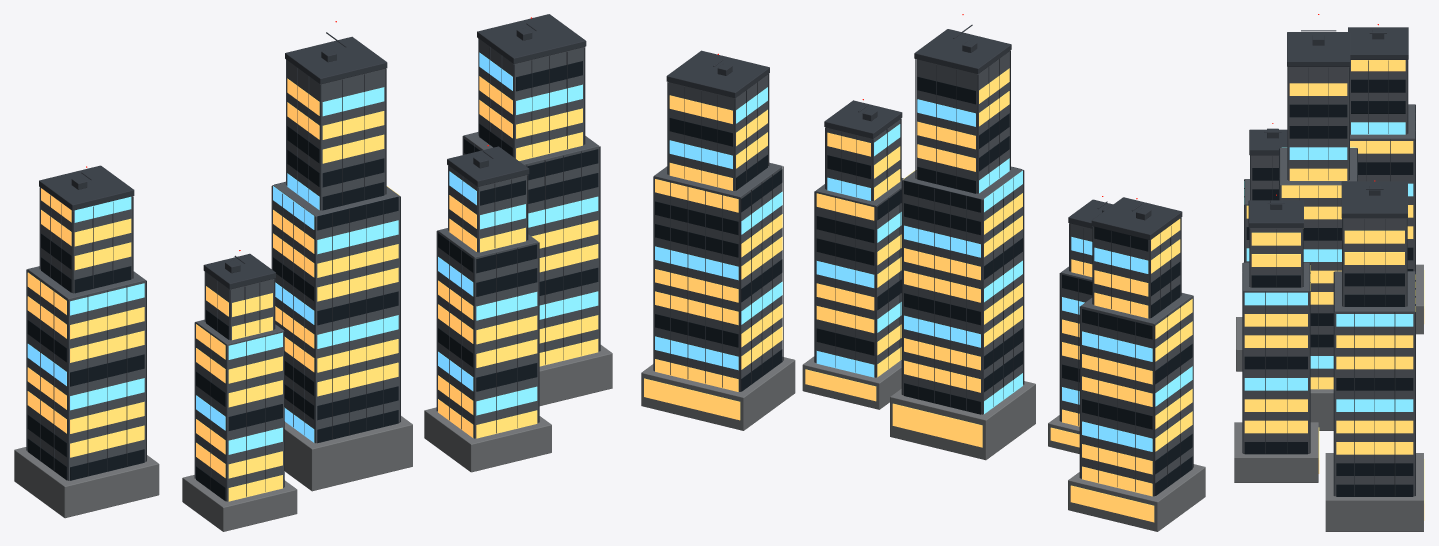
The model's file is distant-skyline-lod1.glb.
The picture shows the model from 3 angles, left to right: view 1: azimuth 30°, elevation 25°; view 2: azimuth 150°, elevation 25°; view 3: azimuth 270°, elevation 25°; orthographic projection. The views are drawn at different scales.
Visible parts, largest first — view 1: SKYLINE_LOD1_BATCH_01_MAT_SkylineConcrete, SKYLINE_LOD1_BATCH_06_MAT_SkylineWarmInterior, SKYLINE_LOD1_BATCH_04_MAT_SkylineMetal, SKYLINE_LOD1_BATCH_03_MAT_SkylineDarkInterior, SKYLINE_LOD1_BATCH_05_MAT_SkylineStone, SKYLINE_LOD1_BATCH_02_MAT_SkylineCoolInterior; view 2: SKYLINE_LOD1_BATCH_01_MAT_SkylineConcrete, SKYLINE_LOD1_BATCH_06_MAT_SkylineWarmInterior, SKYLINE_LOD1_BATCH_03_MAT_SkylineDarkInterior, SKYLINE_LOD1_BATCH_04_MAT_SkylineMetal, SKYLINE_LOD1_BATCH_02_MAT_SkylineCoolInterior, SKYLINE_LOD1_BATCH_05_MAT_SkylineStone; view 3: SKYLINE_LOD1_BATCH_01_MAT_SkylineConcrete, SKYLINE_LOD1_BATCH_06_MAT_SkylineWarmInterior, SKYLINE_LOD1_BATCH_04_MAT_SkylineMetal, SKYLINE_LOD1_BATCH_03_MAT_SkylineDarkInterior, SKYLINE_LOD1_BATCH_05_MAT_SkylineStone, SKYLINE_LOD1_BATCH_02_MAT_SkylineCoolInterior.
Boxes of the visible parts, x1,y1,x2,y2 form: SKYLINE_LOD1_BATCH_01_MAT_SkylineConcrete: (27, 39, 599, 501); SKYLINE_LOD1_BATCH_06_MAT_SkylineWarmInterior: (27, 76, 598, 501); SKYLINE_LOD1_BATCH_04_MAT_SkylineMetal: (26, 14, 600, 501); SKYLINE_LOD1_BATCH_03_MAT_SkylineDarkInterior: (27, 61, 598, 501); SKYLINE_LOD1_BATCH_05_MAT_SkylineStone: (14, 345, 612, 531); SKYLINE_LOD1_BATCH_02_MAT_SkylineCoolInterior: (27, 52, 598, 454); SKYLINE_LOD1_BATCH_01_MAT_SkylineConcrete: (654, 51, 1192, 496); SKYLINE_LOD1_BATCH_06_MAT_SkylineWarmInterior: (644, 68, 1192, 522); SKYLINE_LOD1_BATCH_03_MAT_SkylineDarkInterior: (655, 76, 1192, 495); SKYLINE_LOD1_BATCH_04_MAT_SkylineMetal: (653, 24, 1193, 496); SKYLINE_LOD1_BATCH_02_MAT_SkylineCoolInterior: (655, 87, 1192, 451); SKYLINE_LOD1_BATCH_05_MAT_SkylineStone: (641, 356, 1205, 531); SKYLINE_LOD1_BATCH_01_MAT_SkylineConcrete: (1243, 60, 1415, 496); SKYLINE_LOD1_BATCH_06_MAT_SkylineWarmInterior: (1244, 60, 1424, 520); SKYLINE_LOD1_BATCH_04_MAT_SkylineMetal: (1242, 27, 1415, 496); SKYLINE_LOD1_BATCH_03_MAT_SkylineDarkInterior: (1242, 79, 1415, 496); SKYLINE_LOD1_BATCH_05_MAT_SkylineStone: (1234, 264, 1423, 531); SKYLINE_LOD1_BATCH_02_MAT_SkylineCoolInterior: (1244, 122, 1413, 411).
Size of the model in its own units: 161 by 124 by 54.2.
